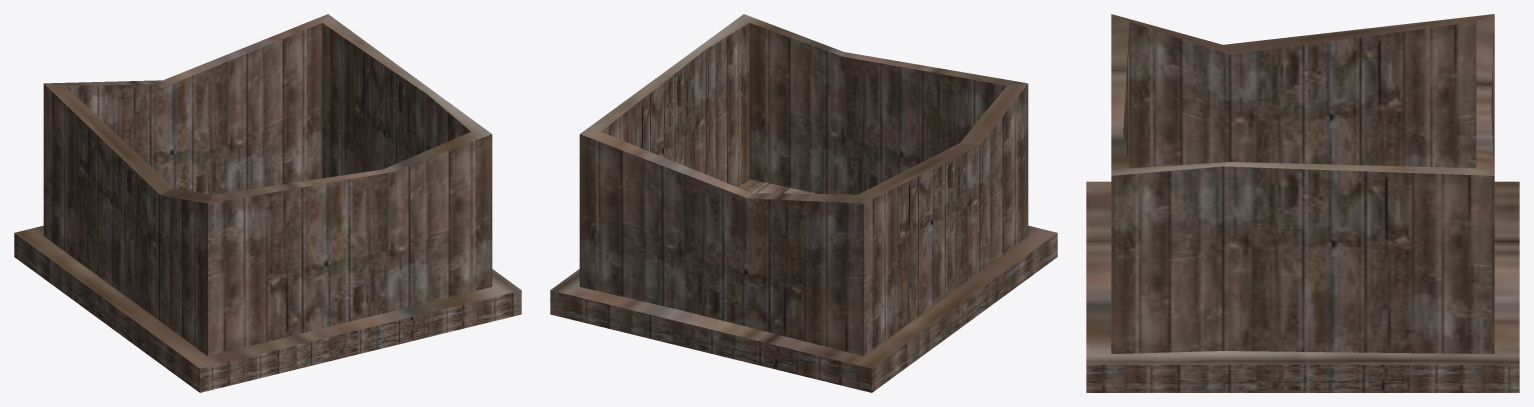
File: BoxLP.fbx
The picture shows the model from 3 angles, left to right: view 1: azimuth 30°, elevation 25°; view 2: azimuth 150°, elevation 25°; view 3: azimuth 270°, elevation 25°; orthographic projection. The views are drawn at different scales.
Visible parts, largest first — view 1: Cube; view 2: Cube; view 3: Cube.
Part boxes in pixels (x1=…): Cube: x1=14, y1=14, x2=521, y2=392; Cube: x1=550, y1=14, x2=1057, y2=392; Cube: x1=1086, y1=14, x2=1519, y2=392.
Bounding box in the file's own units: 200 × 108 × 200.
Materials: 1 (1 with a texture image).
